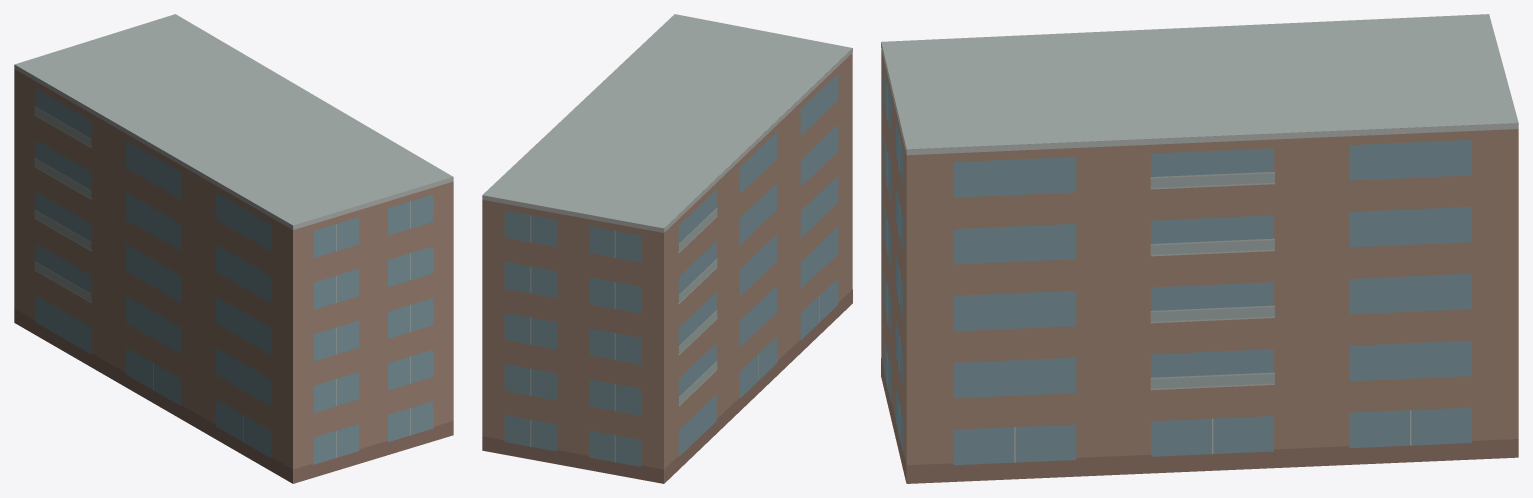
File: survey-upis-33026027.glb
The picture shows the model from 3 angles, left to right: view 1: azimuth 30°, elevation 25°; view 2: azimuth 150°, elevation 25°; view 3: azimuth 270°, elevation 25°; orthographic projection. The views are drawn at different scales.
Visible parts, largest first — view 1: survey-upis-33026027.tmp; view 2: survey-upis-33026027.tmp; view 3: survey-upis-33026027.tmp.
Boxes of the visible parts, <box> form: survey-upis-33026027.tmp: <box>14,14,453,483</box>; survey-upis-33026027.tmp: <box>482,14,852,483</box>; survey-upis-33026027.tmp: <box>881,14,1518,483</box>.
Size of the model in its own units: 11.9 by 13.7 by 23.67.
